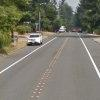Car: (18, 26, 46, 54)
